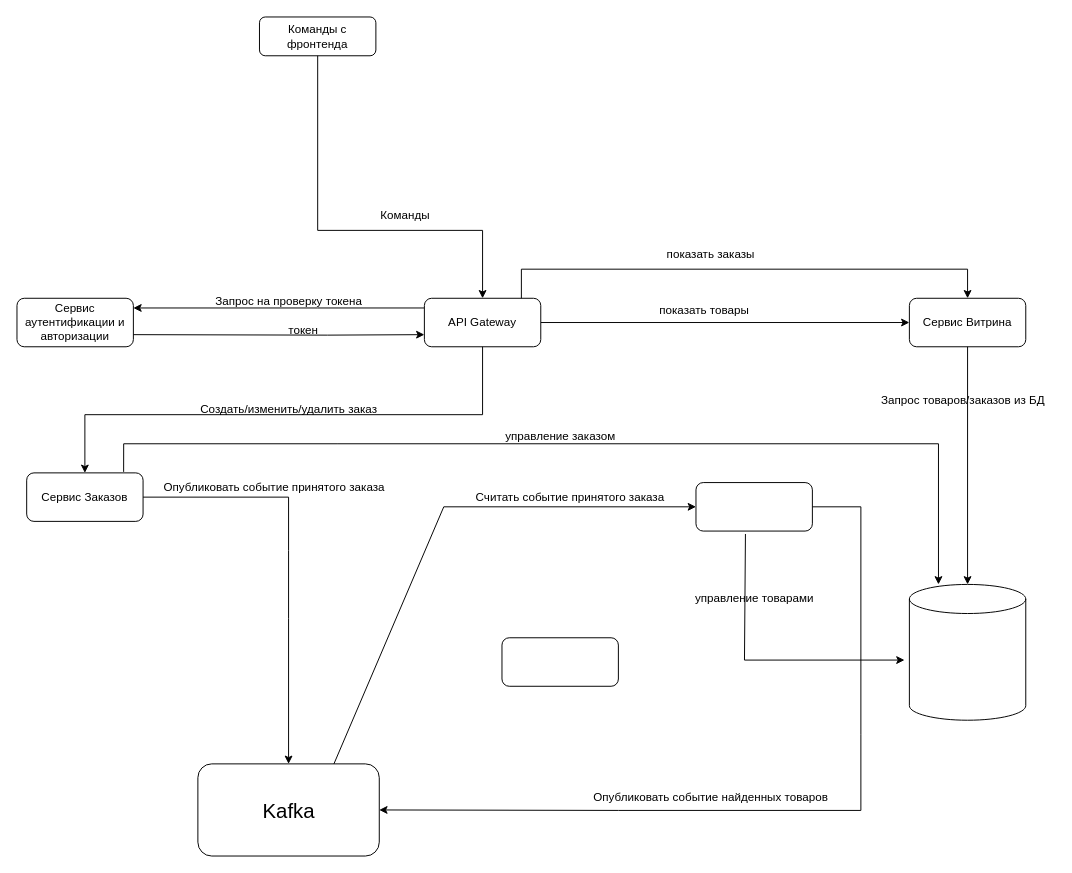
This 1072x873 diagram has some shape labels left out. Here are the shapes that lost their labels. From the top down, the box of each, then its label:
(695, 482, 812, 531): Сервис Склад
(501, 637, 618, 686): Сервис Доставка
(908, 583, 1026, 720): Общая БД
